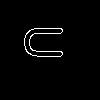U: (24, 24, 72, 60)
